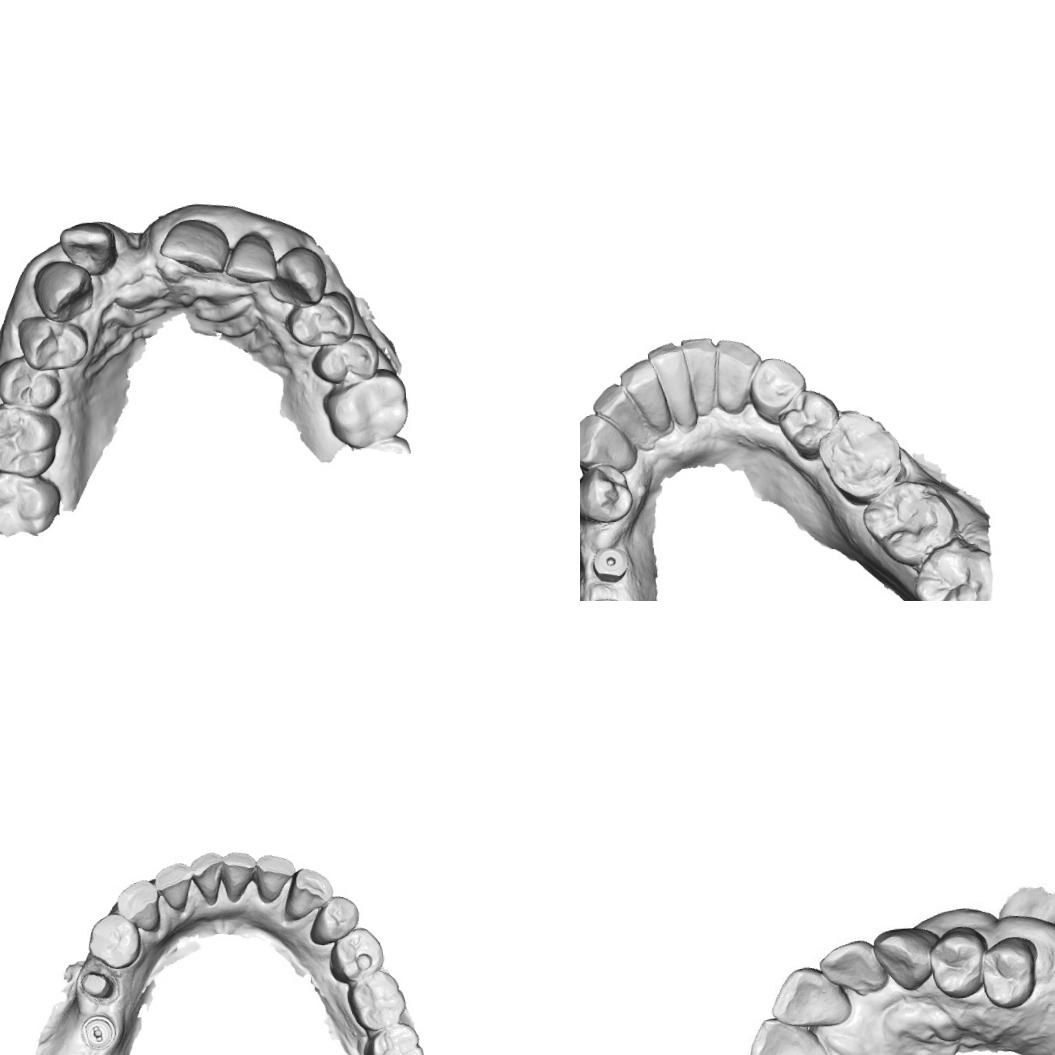canine: (27, 256, 97, 326), (580, 407, 641, 478), (265, 242, 330, 308), (710, 334, 764, 412), (873, 922, 933, 988), (279, 864, 336, 922), (113, 877, 162, 934)
crown: (75, 962, 120, 1006)
implant: (588, 542, 634, 584)
implant_minus: (78, 1012, 118, 1052)
incisor: (153, 214, 232, 281), (769, 966, 847, 1030), (54, 216, 120, 282), (817, 939, 883, 999), (218, 228, 280, 288), (614, 354, 669, 417), (744, 1015, 830, 1055), (643, 337, 692, 401), (587, 380, 644, 432), (678, 330, 722, 392), (252, 850, 298, 904), (188, 848, 227, 908), (219, 848, 259, 904), (152, 860, 194, 912)
molar: (812, 401, 910, 509), (854, 474, 960, 572), (318, 365, 413, 451), (902, 532, 1002, 601), (0, 397, 66, 482), (0, 463, 65, 541), (343, 967, 408, 1033), (359, 1019, 426, 1055)
premolar: (774, 384, 846, 462), (926, 920, 990, 1001), (14, 310, 94, 374), (979, 928, 1038, 1013), (742, 354, 810, 426), (282, 288, 359, 350), (306, 329, 384, 387), (580, 458, 638, 529), (0, 350, 64, 412), (324, 924, 386, 985), (84, 909, 144, 971), (304, 892, 362, 946)
